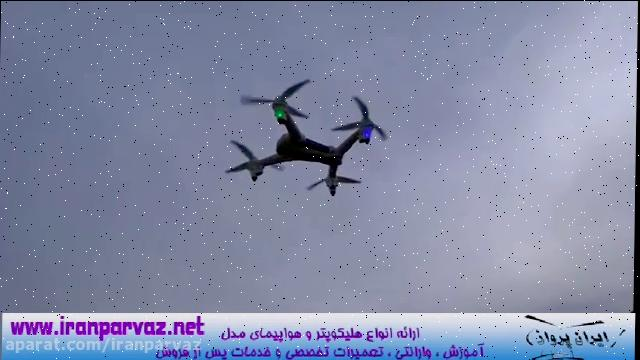drone: (218, 74, 391, 198)
